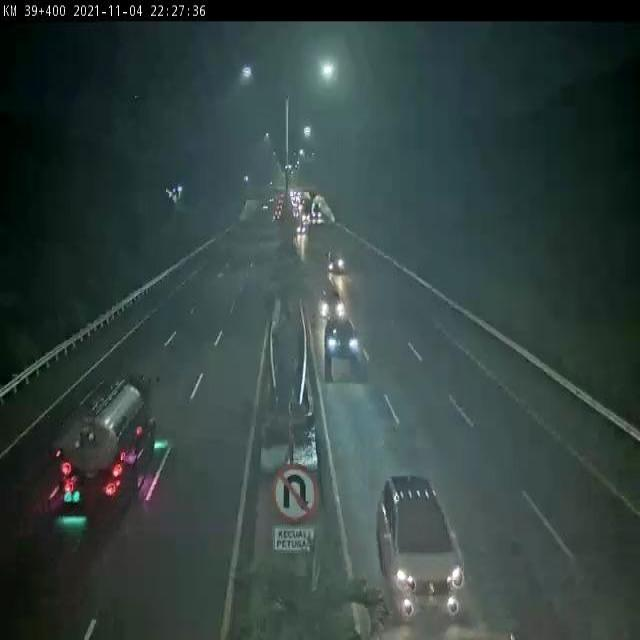car: (379, 475, 461, 616), (324, 314, 357, 358), (319, 288, 343, 316)
truck-l-: (54, 375, 157, 513)
